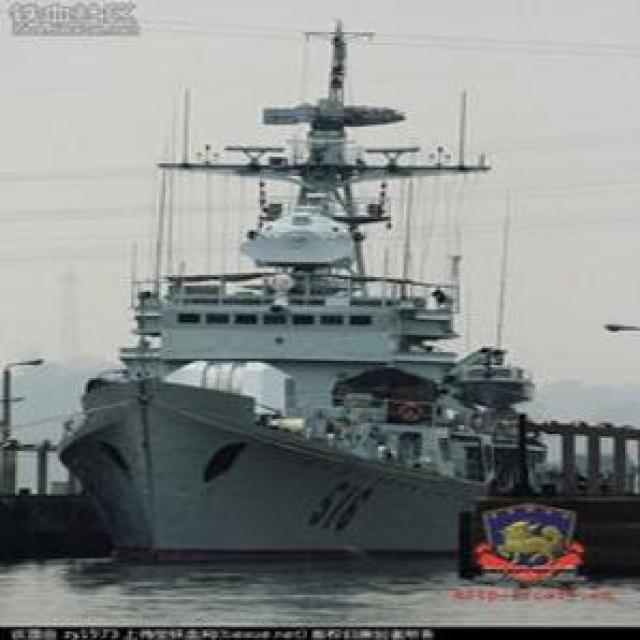navalvessels: (61, 18, 534, 557)
